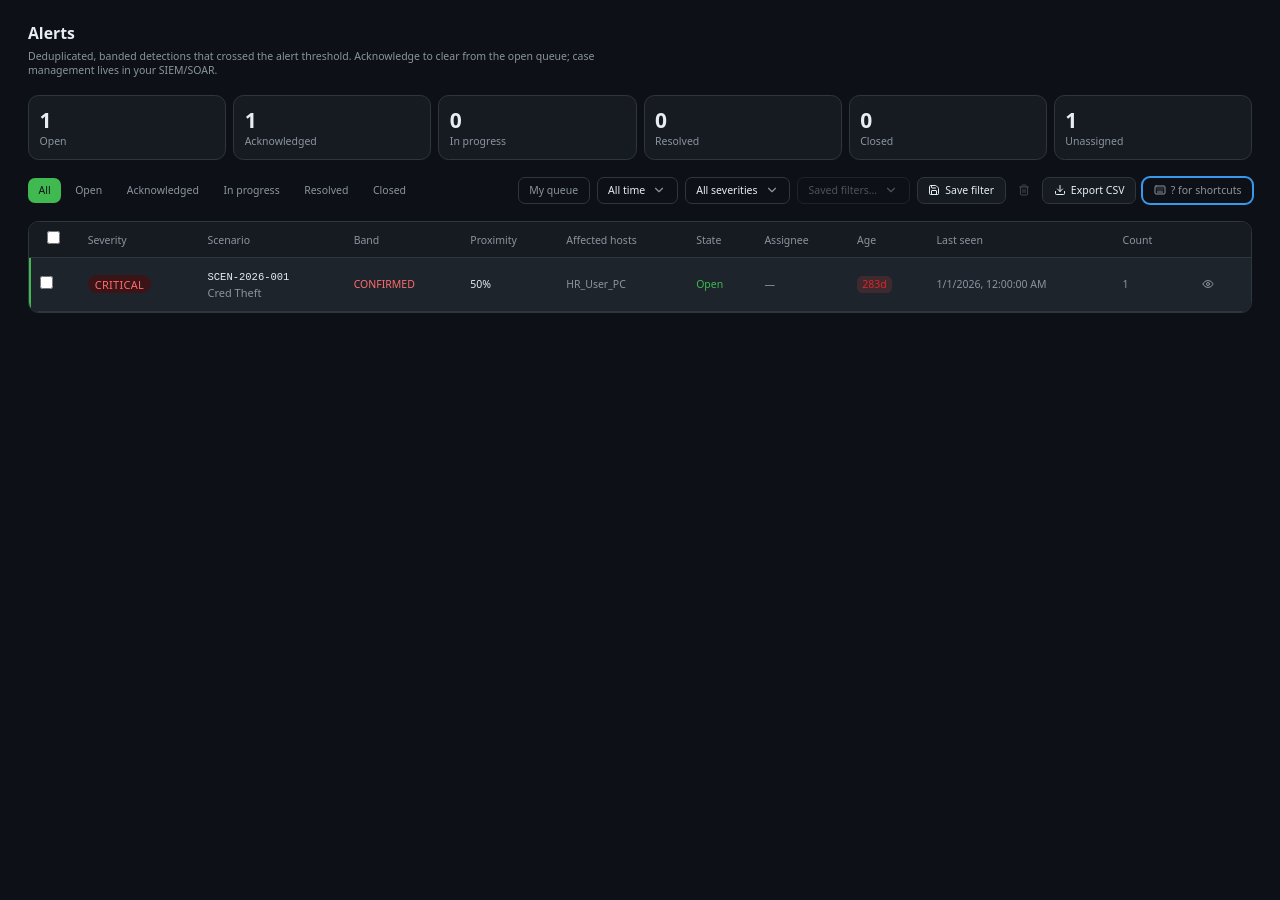
Alerts page › renders F1 next-step guidance for an enriched missing step in the drawer
This screenshot has width=1280, height=900.
Expected: the text "SCEN-2026-001" is shown, [208,271,289,283]
Click the button named "view alert scen-2026-001". click: (1208, 284)
box: [1195,274,1221,293]
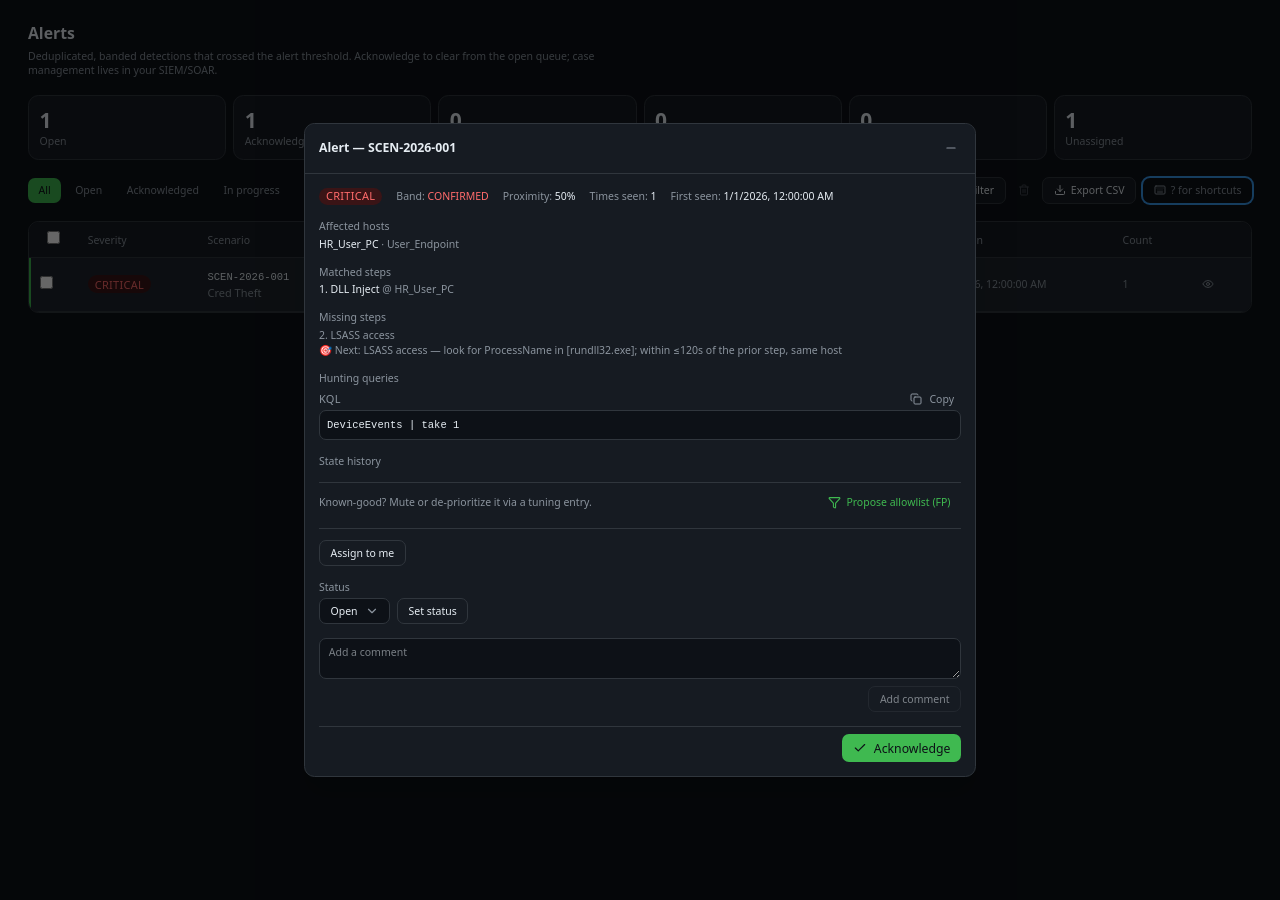
Expected: the dialog is shown, [304,123,976,777]
Expected: the text "Next: LSASS access" is shown, [319,343,428,357]
Expected: the text "ProcessName in [rundll32.exe]" is shown, [444,343,634,357]
